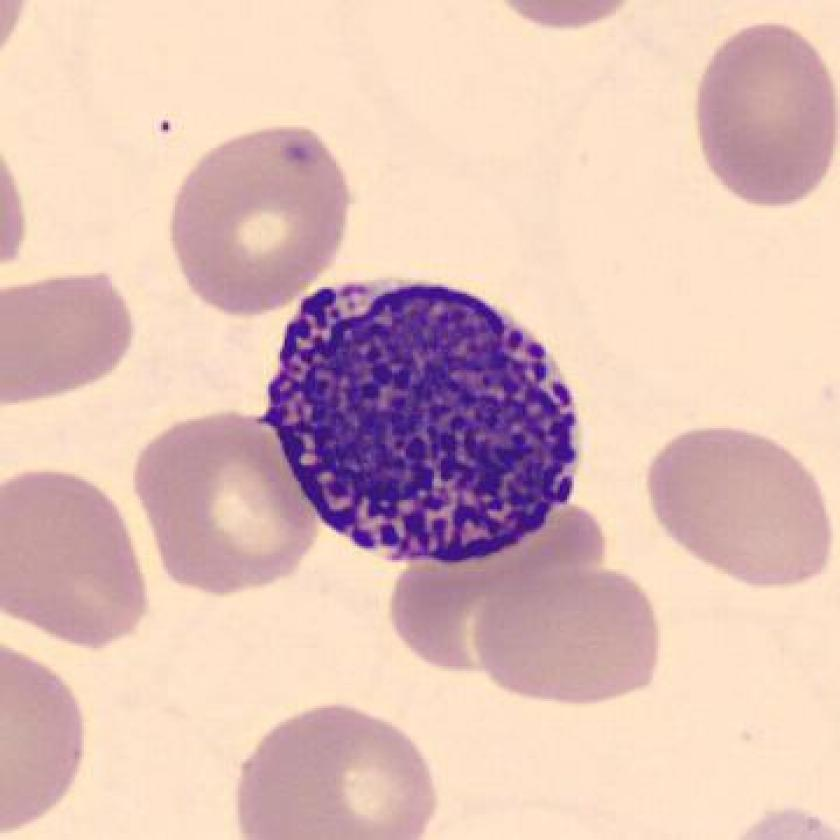basophil: (269, 279, 587, 573)
